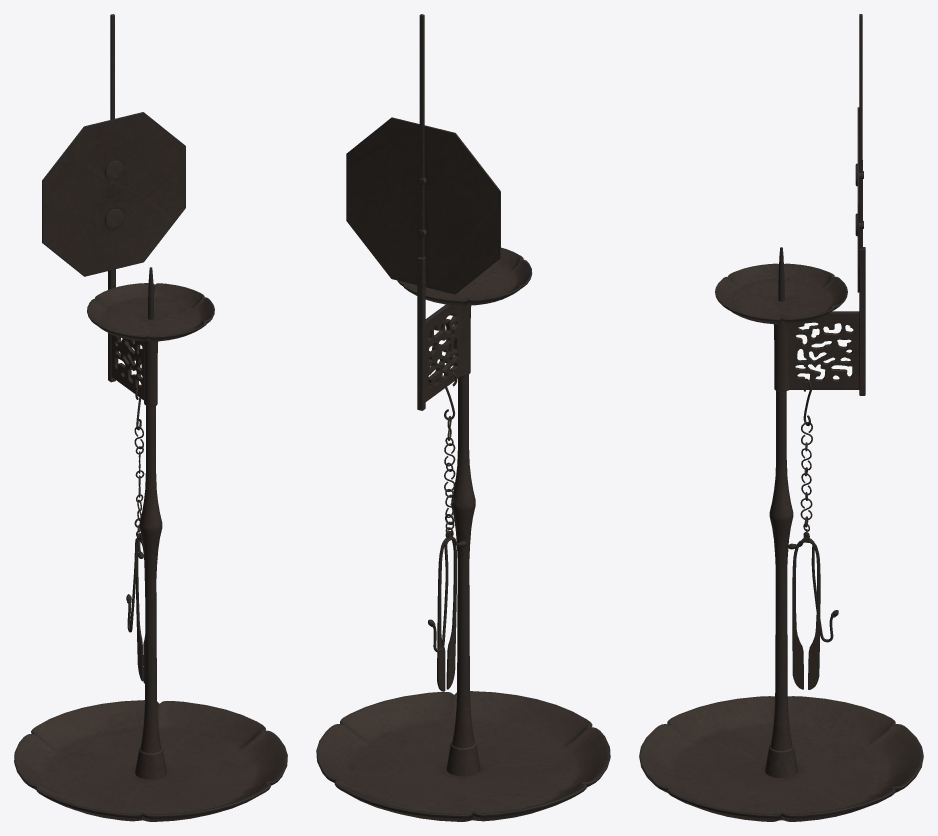
The model's file is gb_candle.glb.
The picture shows the model from 3 angles, left to right: view 1: azimuth 30°, elevation 25°; view 2: azimuth 150°, elevation 25°; view 3: azimuth 270°, elevation 25°; orthographic projection. The views are drawn at different scales.
Visible parts, largest first — view 1: SM_GNJ_Candlestick; view 2: SM_GNJ_Candlestick; view 3: SM_GNJ_Candlestick.
Part boxes in pixels (<box>): SM_GNJ_Candlestick: <box>14,14,287,821</box>; SM_GNJ_Candlestick: <box>316,14,610,821</box>; SM_GNJ_Candlestick: <box>639,14,923,821</box>.
Size of the model in its own units: 0.2098 by 0.6227 by 0.2113.
1 material, 1 textured.
